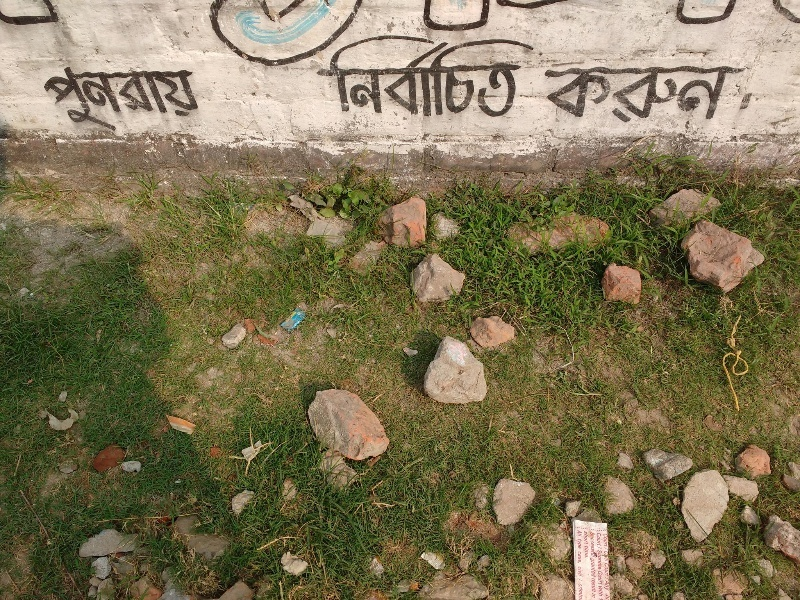text: (321, 34, 336, 121), (337, 34, 352, 121), (353, 34, 368, 121), (369, 34, 384, 121), (385, 34, 400, 121), (401, 34, 416, 121), (417, 34, 432, 121), (433, 34, 448, 121), (449, 34, 464, 121), (465, 34, 480, 121), (481, 34, 496, 121), (497, 34, 512, 121), (513, 34, 528, 121), (529, 34, 544, 121), (577, 517, 592, 598), (593, 517, 608, 598), (49, 61, 64, 138), (65, 61, 80, 138), (81, 61, 96, 138), (97, 61, 112, 138), (113, 61, 128, 138), (129, 61, 144, 138), (145, 61, 160, 138), (161, 61, 176, 138), (177, 61, 192, 138), (34, 61, 48, 138), (545, 62, 560, 128), (561, 62, 576, 128), (577, 62, 592, 128), (593, 62, 608, 128), (609, 62, 624, 128), (625, 62, 640, 128), (641, 62, 656, 128), (657, 62, 672, 128), (673, 62, 688, 128), (689, 62, 704, 128), (705, 62, 720, 128), (721, 62, 736, 128), (737, 62, 752, 128), (193, 61, 204, 138), (311, 34, 320, 121), (753, 62, 763, 128), (569, 517, 576, 598), (609, 517, 615, 598), (542, 62, 544, 128)
